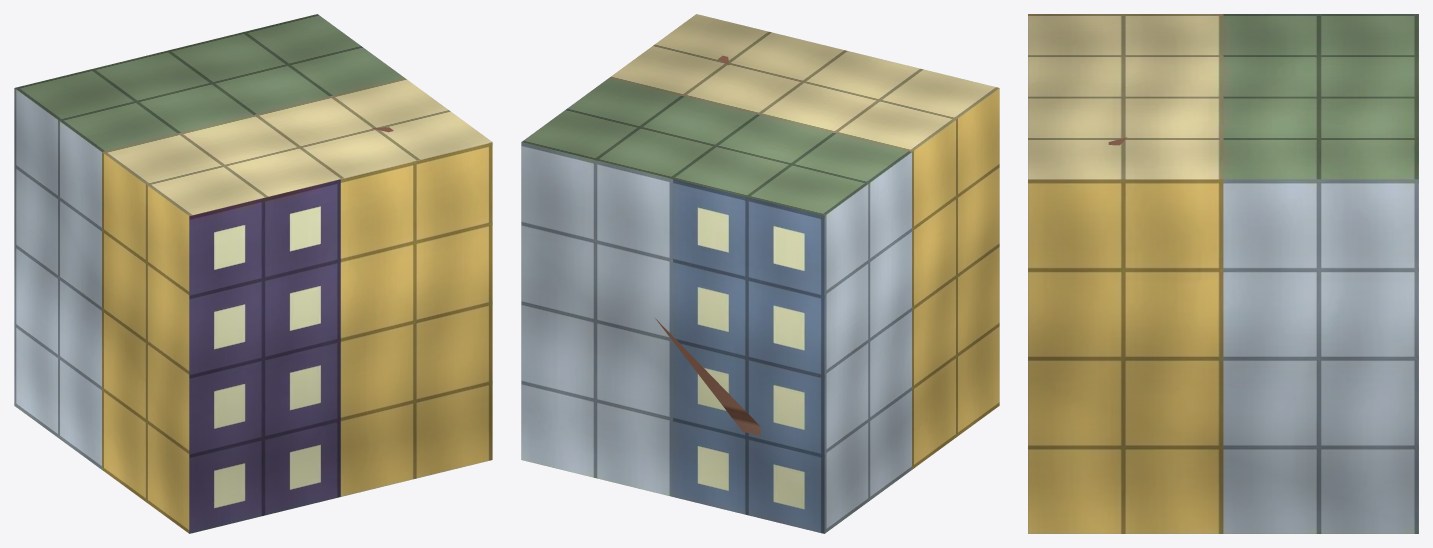
The model's file is crate_a.glb.
3 views of the same model, side by side, from view 1: azimuth 30°, elevation 25°; view 2: azimuth 150°, elevation 25°; view 3: azimuth 270°, elevation 25° (orthographic). The views are drawn at different scales.
Visible parts, largest first — view 1: col; view 2: col, lod0; view 3: col.
Part boxes in pixels (box(x1,y1,x2,y2)): col: box(14, 14, 492, 533); col: box(521, 14, 999, 533); lod0: box(655, 55, 760, 435); col: box(1028, 14, 1418, 533).
Size of the model in its own units: 0.9972 by 0.9993 by 0.9972.
Materials: 1 (1 with a texture image).
